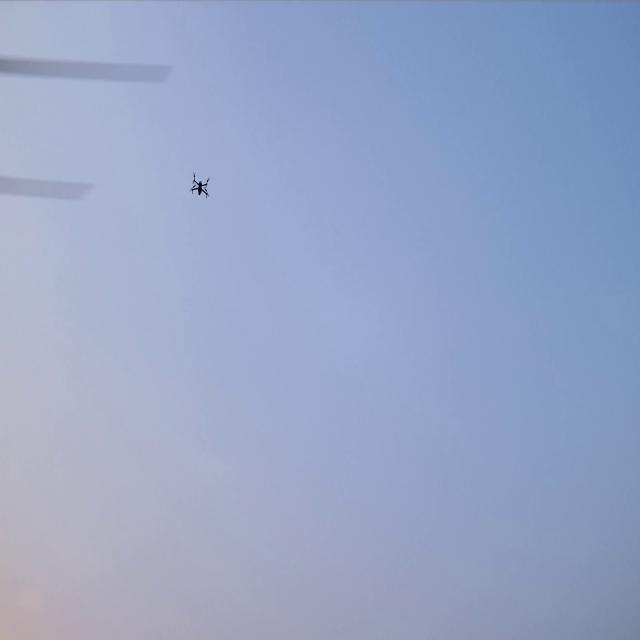UAV: (188, 170, 212, 201)
